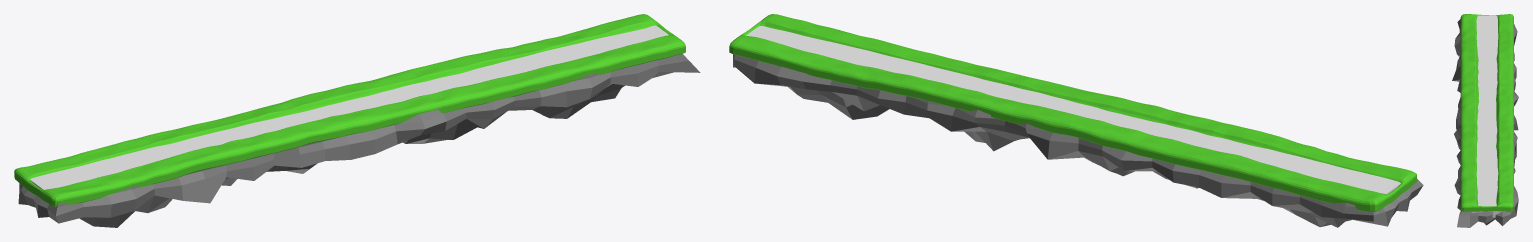
Rendered from SnowIsland_Part_02 1.fbx.
The picture shows the model from 3 angles, left to right: view 1: azimuth 30°, elevation 25°; view 2: azimuth 150°, elevation 25°; view 3: azimuth 270°, elevation 25°; orthographic projection. The views are drawn at different scales.
Parts seen in each view (by area): view 1: Box033, Box032, Box036; view 2: Box033, Box032, Box036; view 3: Box033, Box036, Box032.
Boxes of the visible parts, x1,y1,x2,y2 form: Box033: (14,14,685,207); Box032: (18,54,700,227); Box036: (20,25,668,189); Box033: (729,14,1416,211); Box032: (733,54,1423,227); Box036: (746,26,1400,213); Box033: (1460,14,1513,211); Box036: (1471,15,1505,217); Box032: (1452,19,1518,227).
Bounding box in the file's own units: 540 × 54.88 × 77.34.
